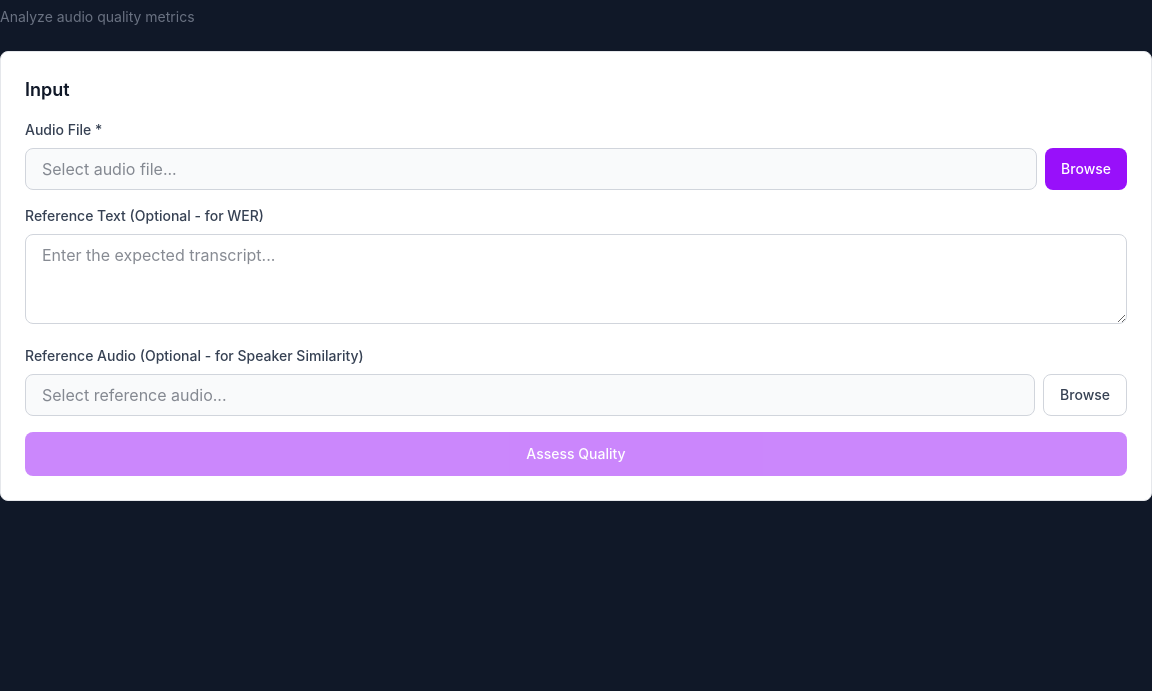
Test: QualityDashboard › Overall Assessment › should show excellent assessment for high MOS
Click the button with aria-label "browse audio file".
click(1086, 169)  # box [1045,148,1127,190]
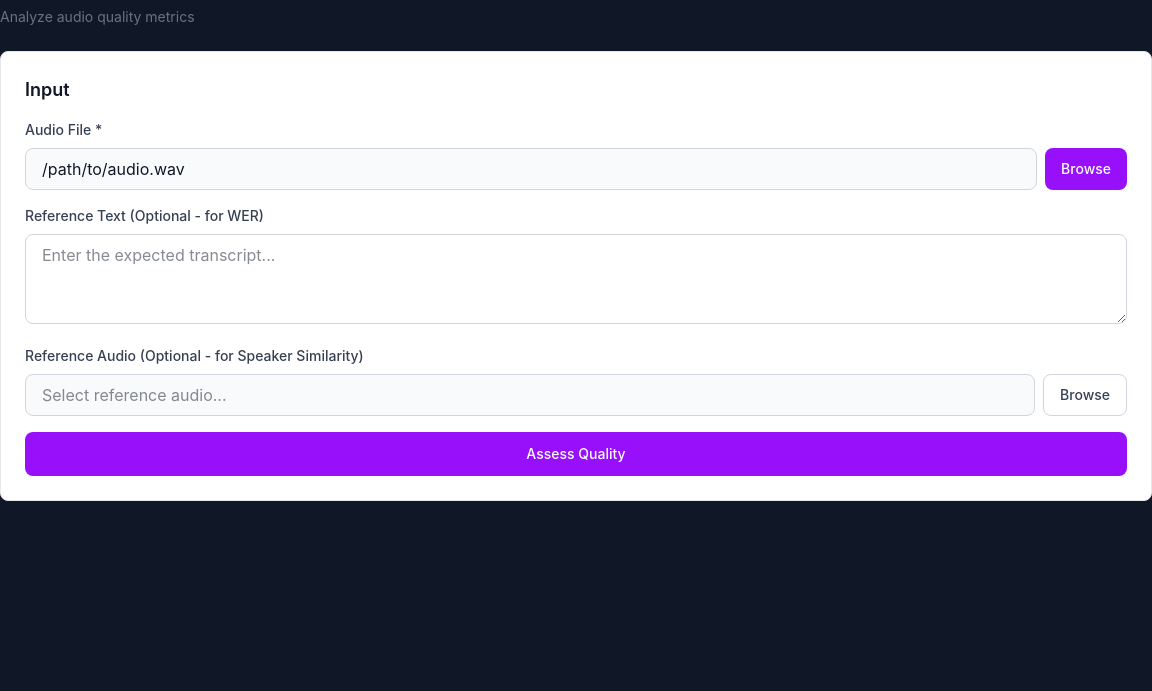
Expected: the button "Assess Quality" is enabled
Click the button "Assess Quality".
click(576, 454)  # box [25,432,1127,476]
(page scrolled)
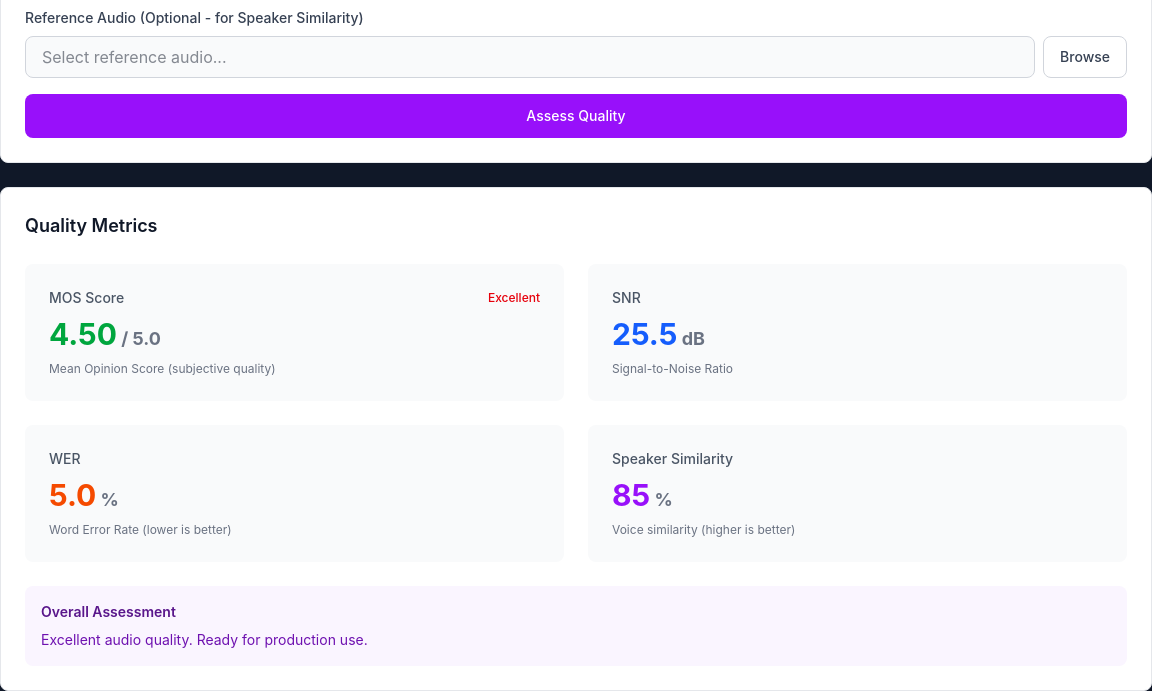
Expected: the text "Excellent audio quality. Ready for production use." is shown, [41,631,368,648]
